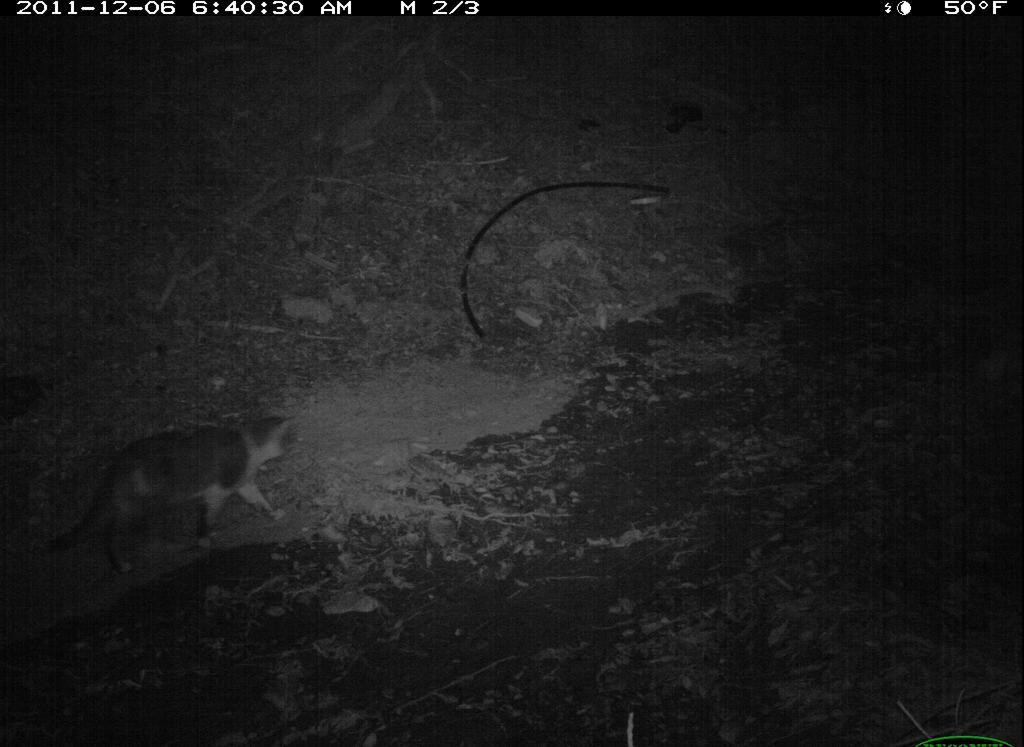cat: (41, 405, 297, 575)
